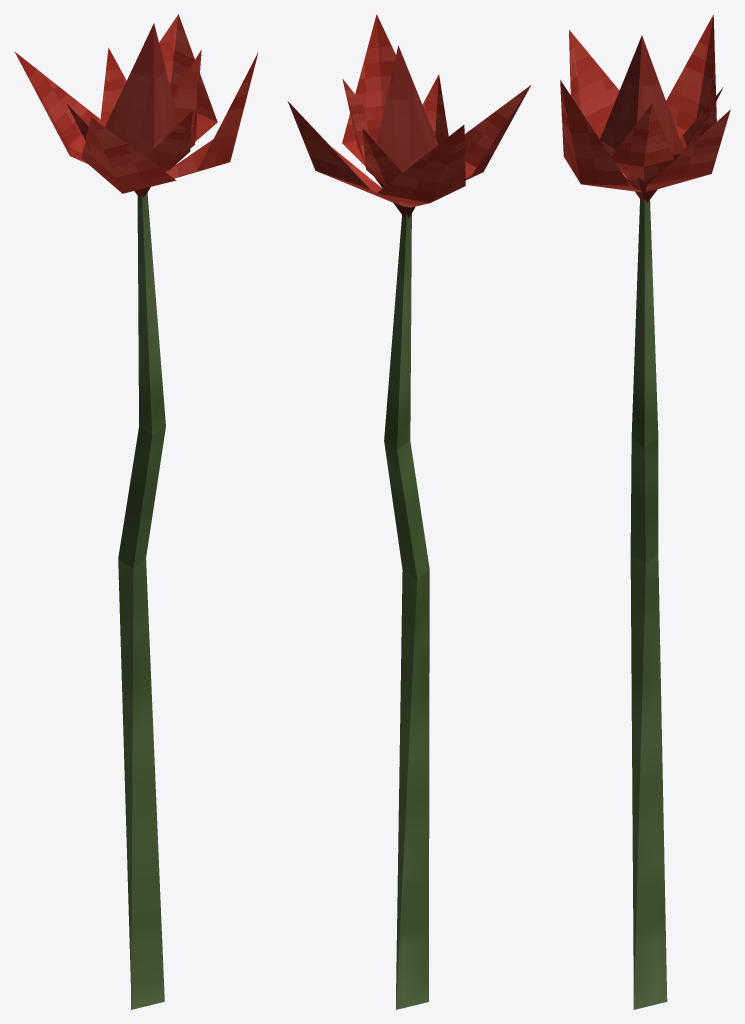
Rendered from FlowerALIVE.fbx.
The picture shows the model from 3 angles, left to right: view 1: azimuth 30°, elevation 25°; view 2: azimuth 150°, elevation 25°; view 3: azimuth 270°, elevation 25°; orthographic projection. The views are drawn at different scales.
Visible parts, largest first — view 1: FlowerALIVE; view 2: FlowerALIVE; view 3: FlowerALIVE.
Part boxes in pixels (x1,y1,x2,y2): FlowerALIVE: [14, 14, 258, 1009]; FlowerALIVE: [287, 14, 530, 1009]; FlowerALIVE: [560, 14, 730, 1009].
Size of the model in its own units: 64.24 by 347 by 55.26.
